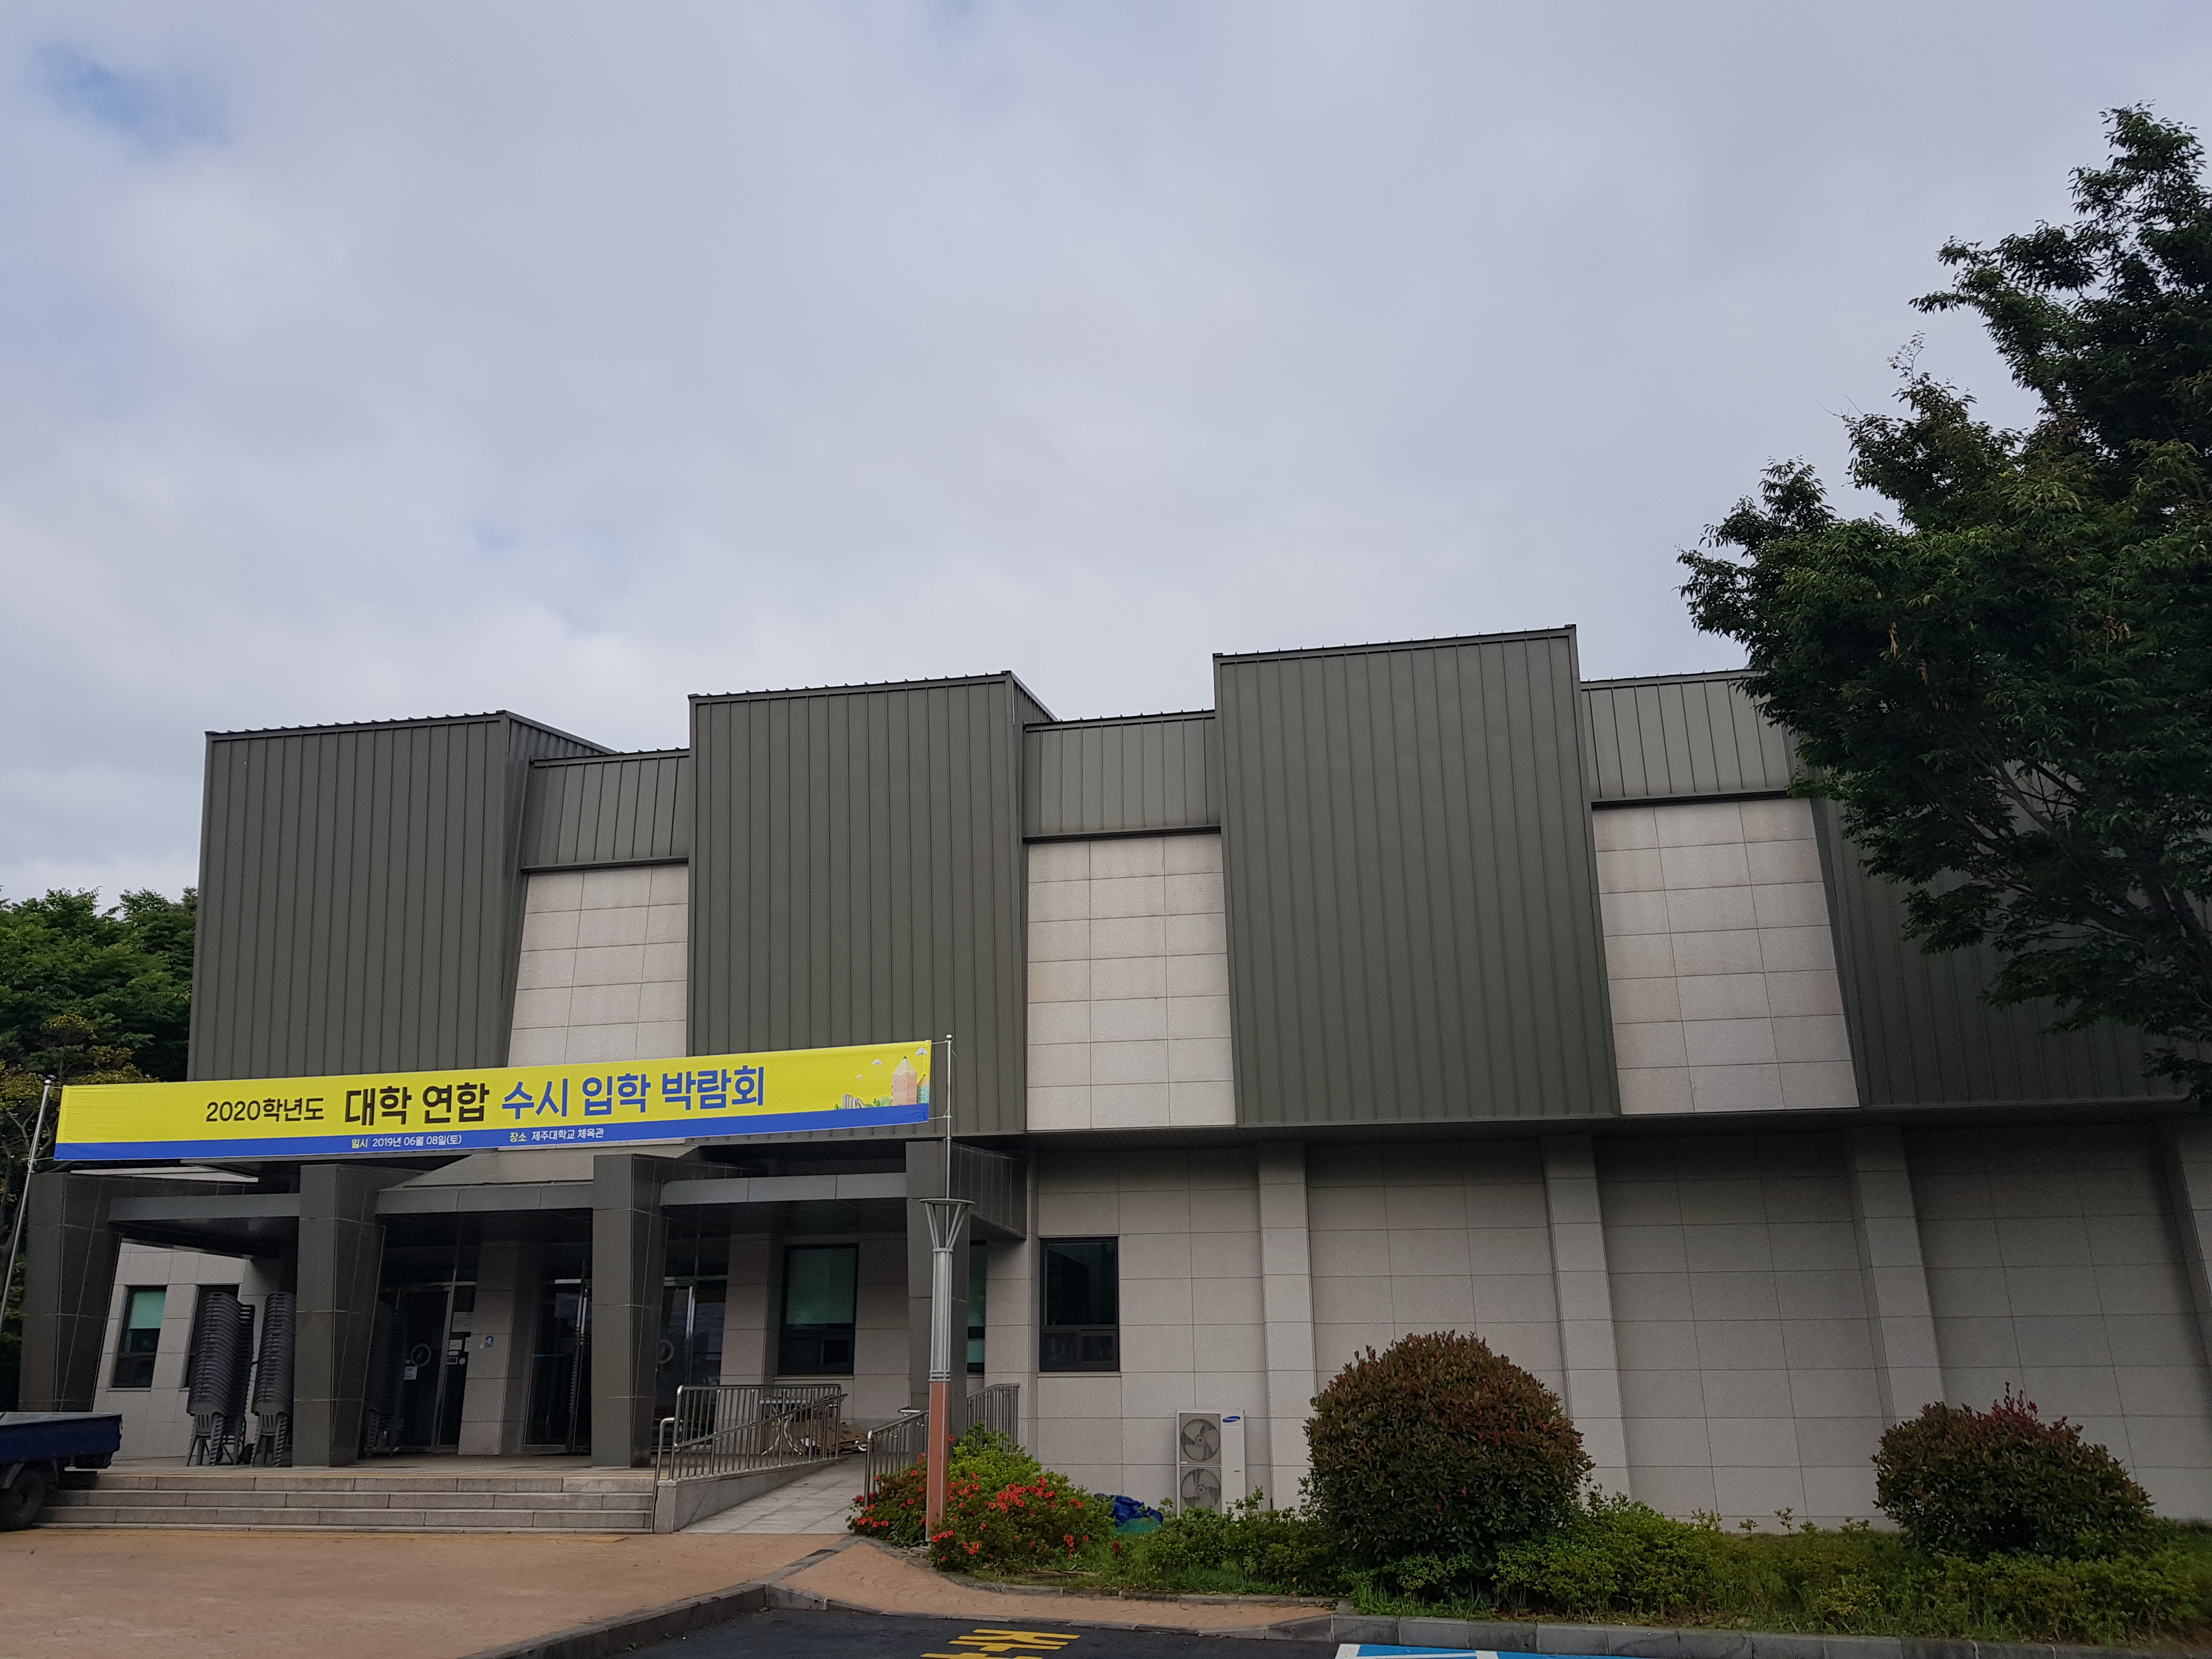Gym: (127, 608, 2184, 1535), (193, 643, 2033, 1016), (254, 1182, 1042, 1516)
